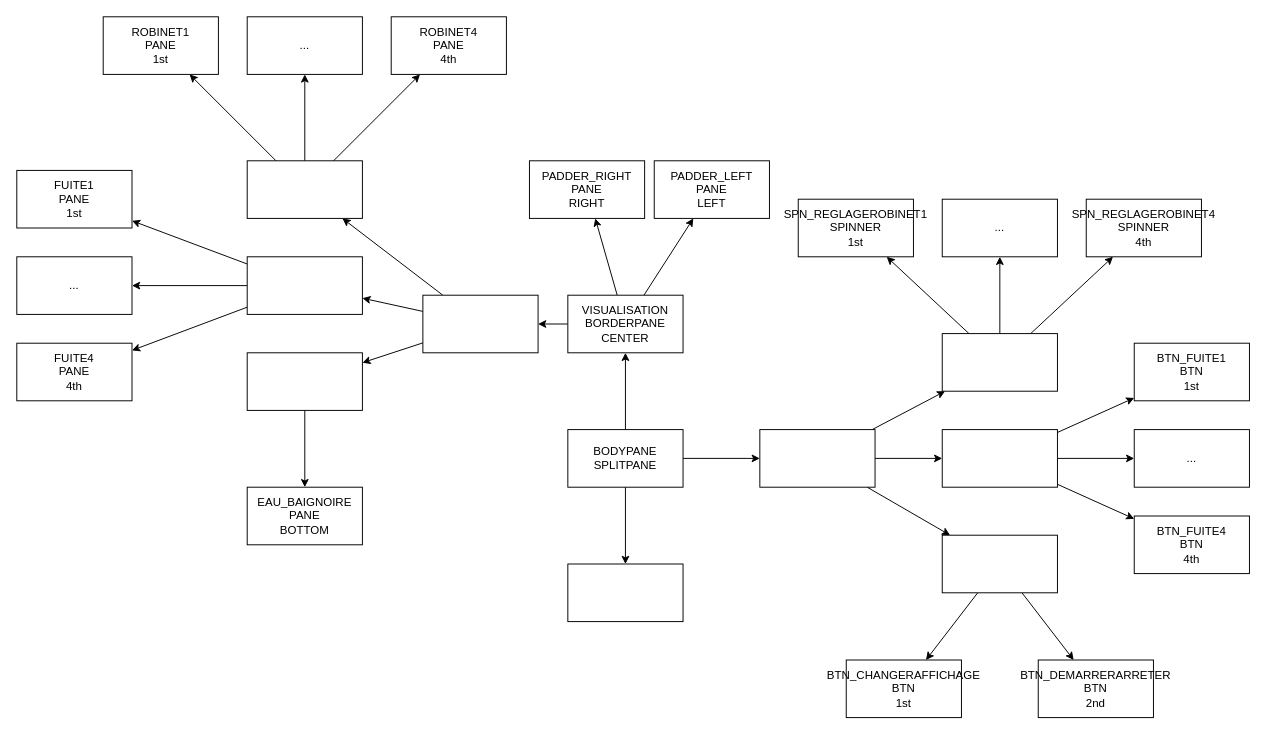
Image size: 1266x734. Some labels were removed from this diagram. The shapes that lost their labels are listed below. From the top down, each one's centre as x and y in pixels, then its label:
At point (304, 189): "ROBINET_PANE GRIDPANE TOP".
At point (304, 285): "FUITE_PANE GRIDPANE BOTTOM".
At point (480, 323): "WATERWORKS BORDERPANE CENTER".
At point (304, 381): "BAIGNOIRE_PANE BORDERPANE CENTER".
At point (999, 362): "REGLAGEROBINET GRIDPANE 1st".
At point (817, 458): "MENU GRIDPANE RIGHT".
At point (999, 458): "REGALGEFUITE GRIDPANE 2nd".
At point (999, 563): "REGLAGEAFFICHAGE GRID 3rd".
At point (625, 592): "LINECHART LINECHART".
